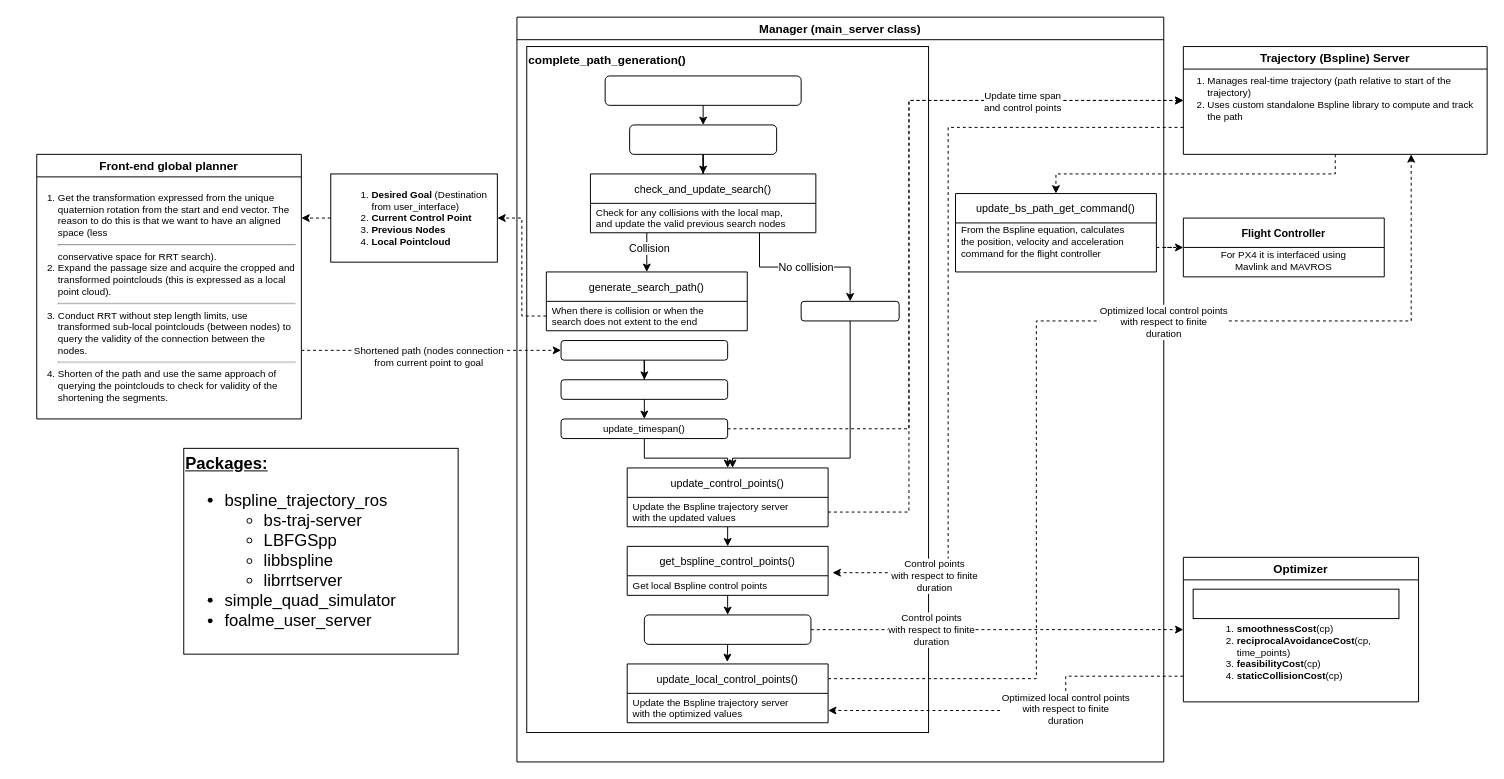
The diagram is 1504 pixels wide and 779 high, and some of its shapes have lost their labels. The centre of each missing label's shape, as x and y in pixels:
Bypass RRT: point 849,310
concatenate_distributed_cp (): point 644,389
Get Local Pointcloud: point 703,139
get_current_cp_and_overlap (): point 702,90
get_local_control_points(): point 644,350
run_optimization(): point 727,629
solver.minimize(opt, x, fx, lb, ub): point 1295,603
